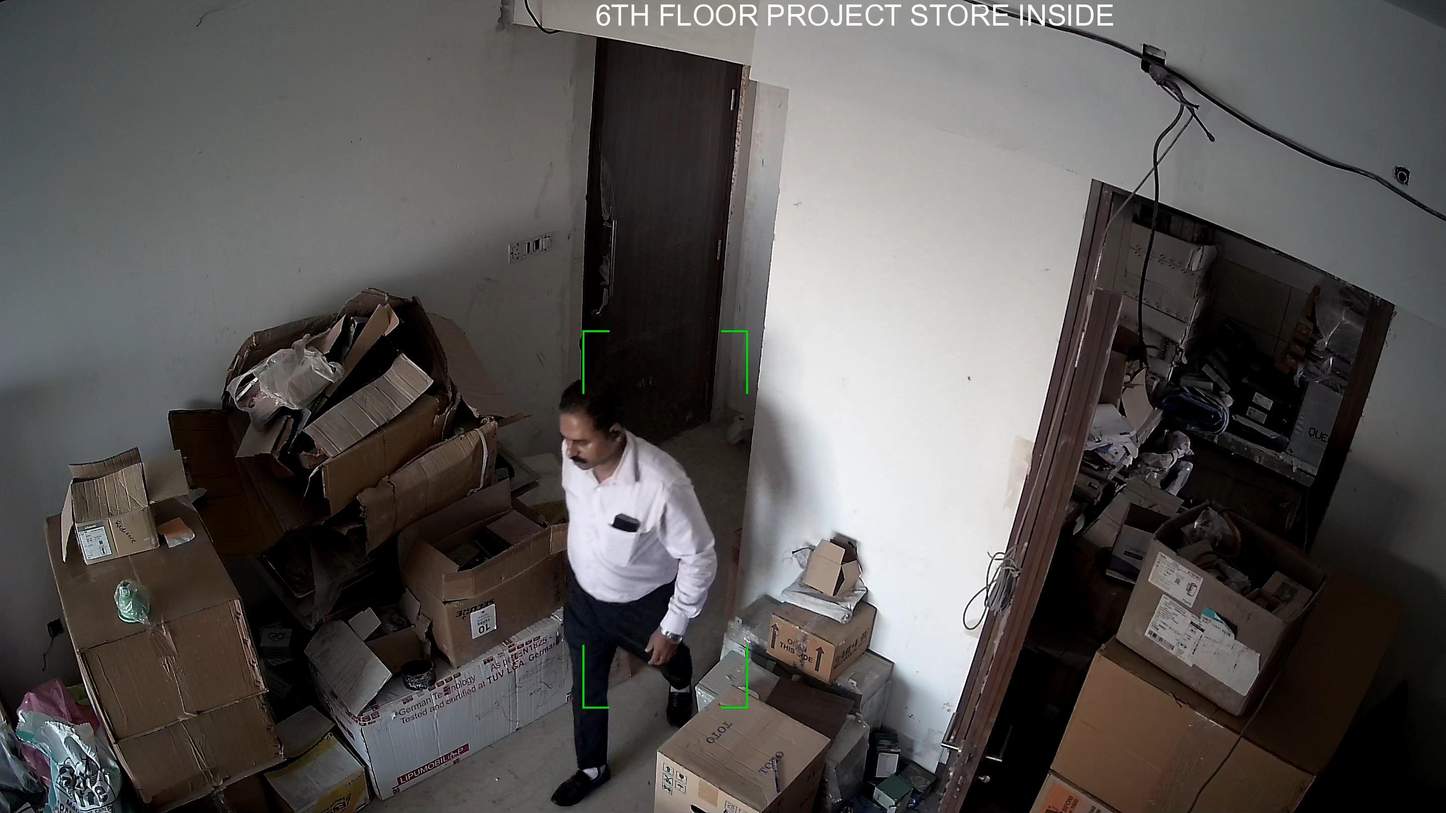Door-Close: (571, 47, 748, 466)
